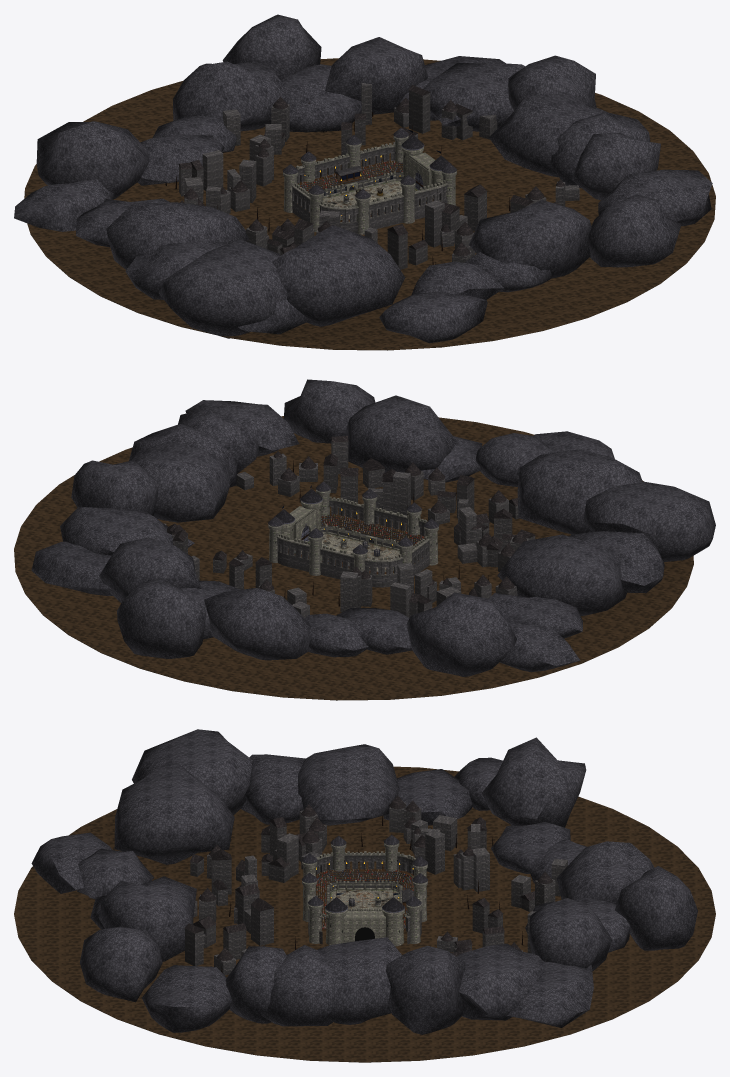
File: arena_irongate.glb
3 views of the same model, one above another, from view 1: azimuth 30°, elevation 25°; view 2: azimuth 150°, elevation 25°; view 3: azimuth 270°, elevation 25° (orthographic). The views are drawn at different scales.
Visible parts, largest first — view 1: Decor, Stands, Walls, Ground; view 2: Decor, Stands, Walls, Ground; view 3: Decor, Walls, Stands, Ground.
Part boxes in pixels (x1=…): Decor: x1=14, y1=14, x2=715, y2=350; Stands: x1=292, y1=160, x2=447, y2=233; Walls: x1=323, y1=152, x2=435, y2=223; Ground: x1=323, y1=180, x2=426, y2=218; Decor: x1=14, y1=379, x2=715, y2=700; Stands: x1=277, y1=514, x2=429, y2=587; Walls: x1=289, y1=506, x2=399, y2=575; Ground: x1=301, y1=533, x2=399, y2=571; Decor: x1=14, y1=729, x2=715, y2=1062; Walls: x1=326, y1=880, x2=403, y2=942; Stands: x1=308, y1=869, x2=421, y2=944; Ground: x1=330, y1=889, x2=399, y2=909.
Bounding box in the file's own units: 320 × 36.19 × 320.
Materials: 14 (11 with a texture image).
